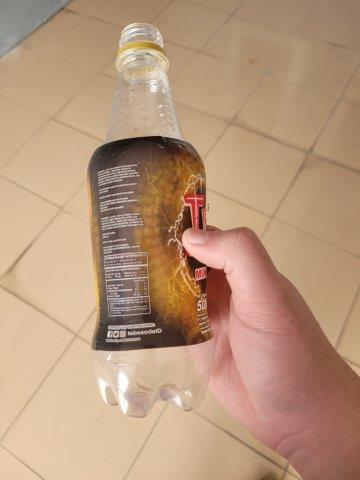botolplastik: (85, 24, 217, 415)
